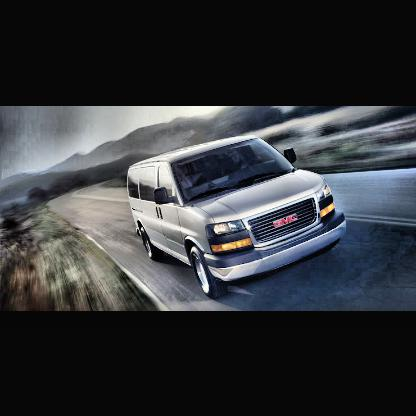GMC Savana Van 2012: (127, 134, 350, 300)
